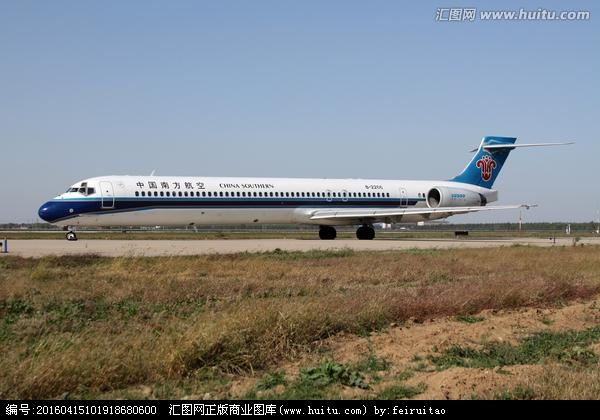airplane: (36, 125, 560, 241)
